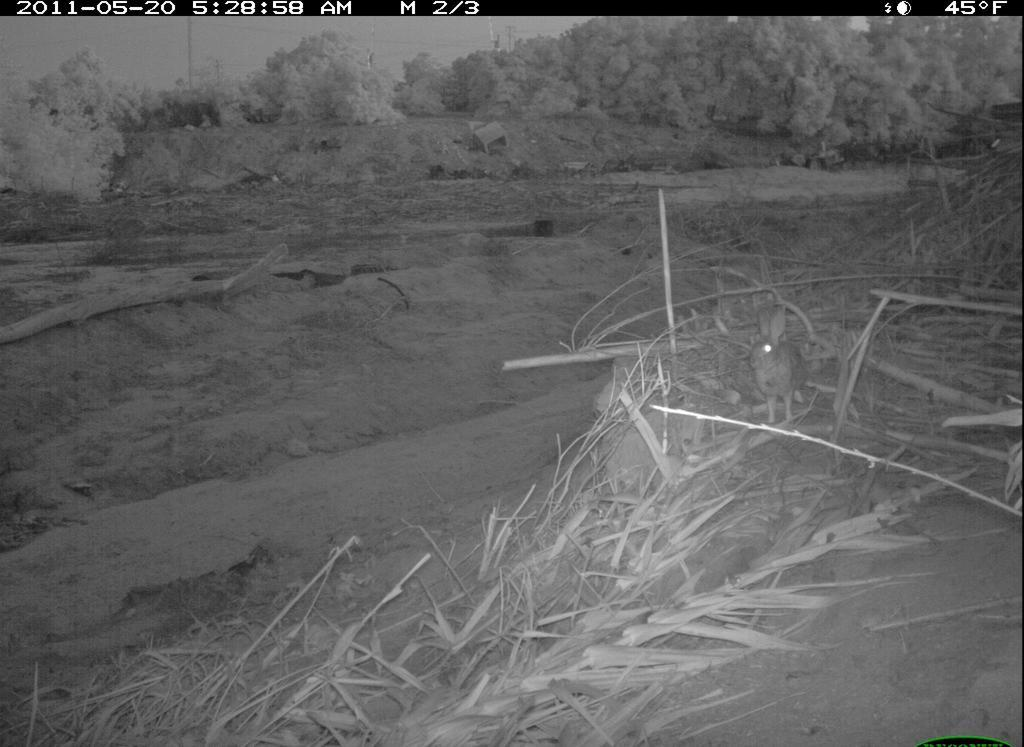rabbit: (722, 298, 825, 420)
